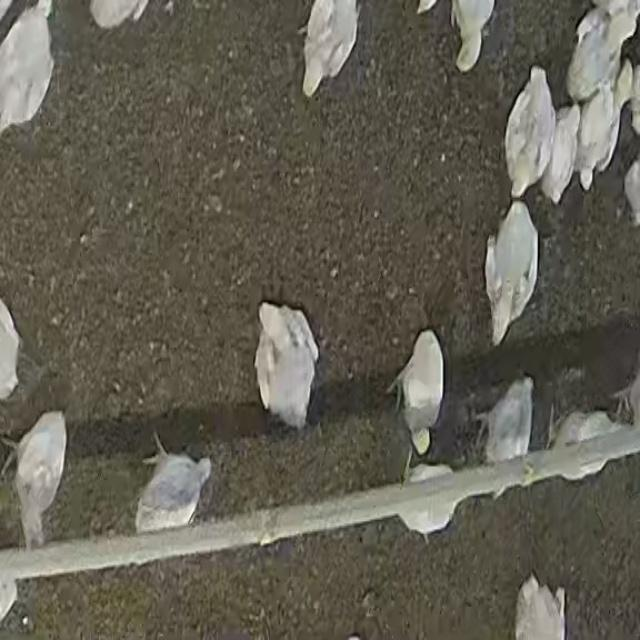chicken: (2, 406, 71, 552), (482, 200, 540, 352), (386, 329, 445, 475), (251, 301, 316, 428), (135, 431, 213, 535), (0, 5, 57, 144), (473, 376, 535, 487), (504, 68, 555, 199), (566, 8, 638, 97), (300, 0, 362, 97), (576, 86, 625, 191), (539, 106, 581, 203), (450, 0, 498, 75), (514, 572, 567, 636)
